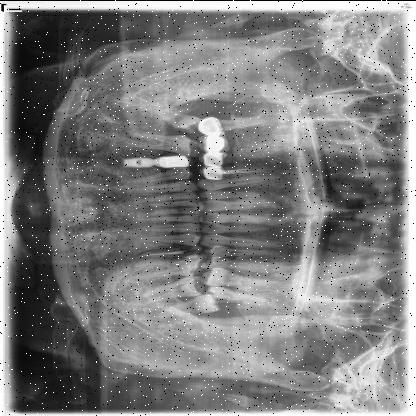Bicon: (122, 156, 152, 168)
